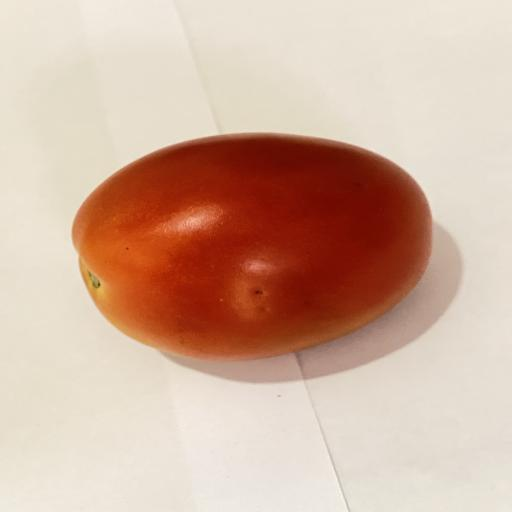ripe: (72, 133, 432, 360)
